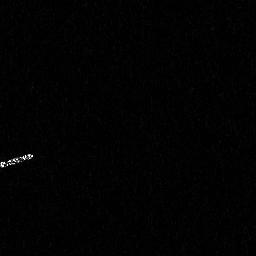ship: (1, 149, 37, 172)
